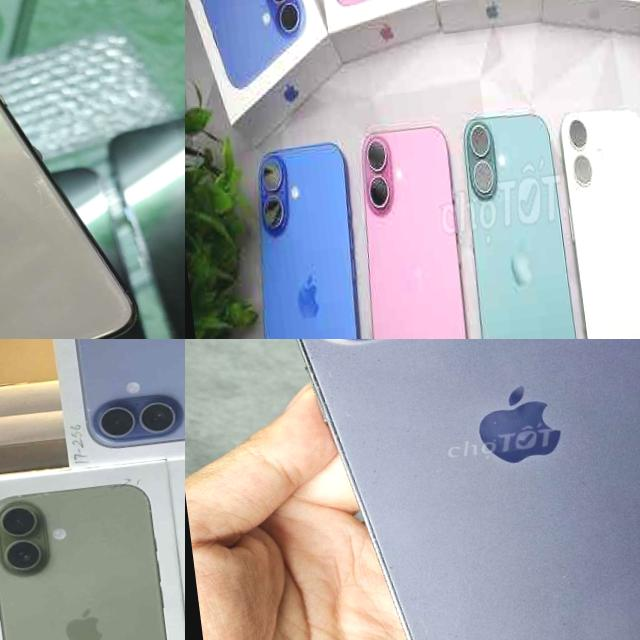gen_14: (255, 339, 640, 640)
gen_16: (340, 114, 486, 339)
gen_17: (0, 474, 185, 640), (71, 339, 185, 453)
gen_x_xs: (0, 0, 176, 339)
